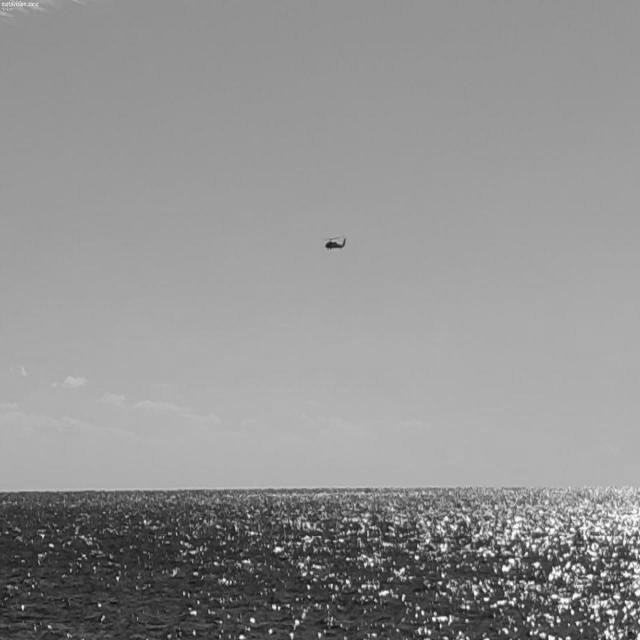helikopter: (299, 210, 386, 281)
